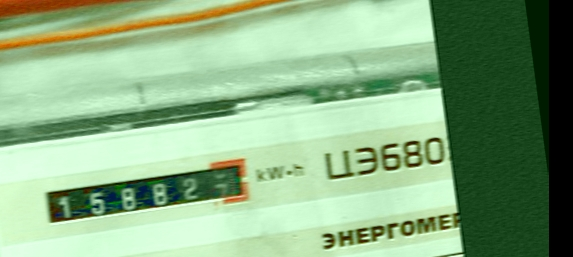1: (56, 197, 73, 224)
2: (181, 178, 200, 205)
5: (87, 193, 106, 220)
7: (213, 184, 229, 201)
8: (118, 189, 138, 215), (149, 183, 168, 210)
screen: (30, 153, 262, 242)
